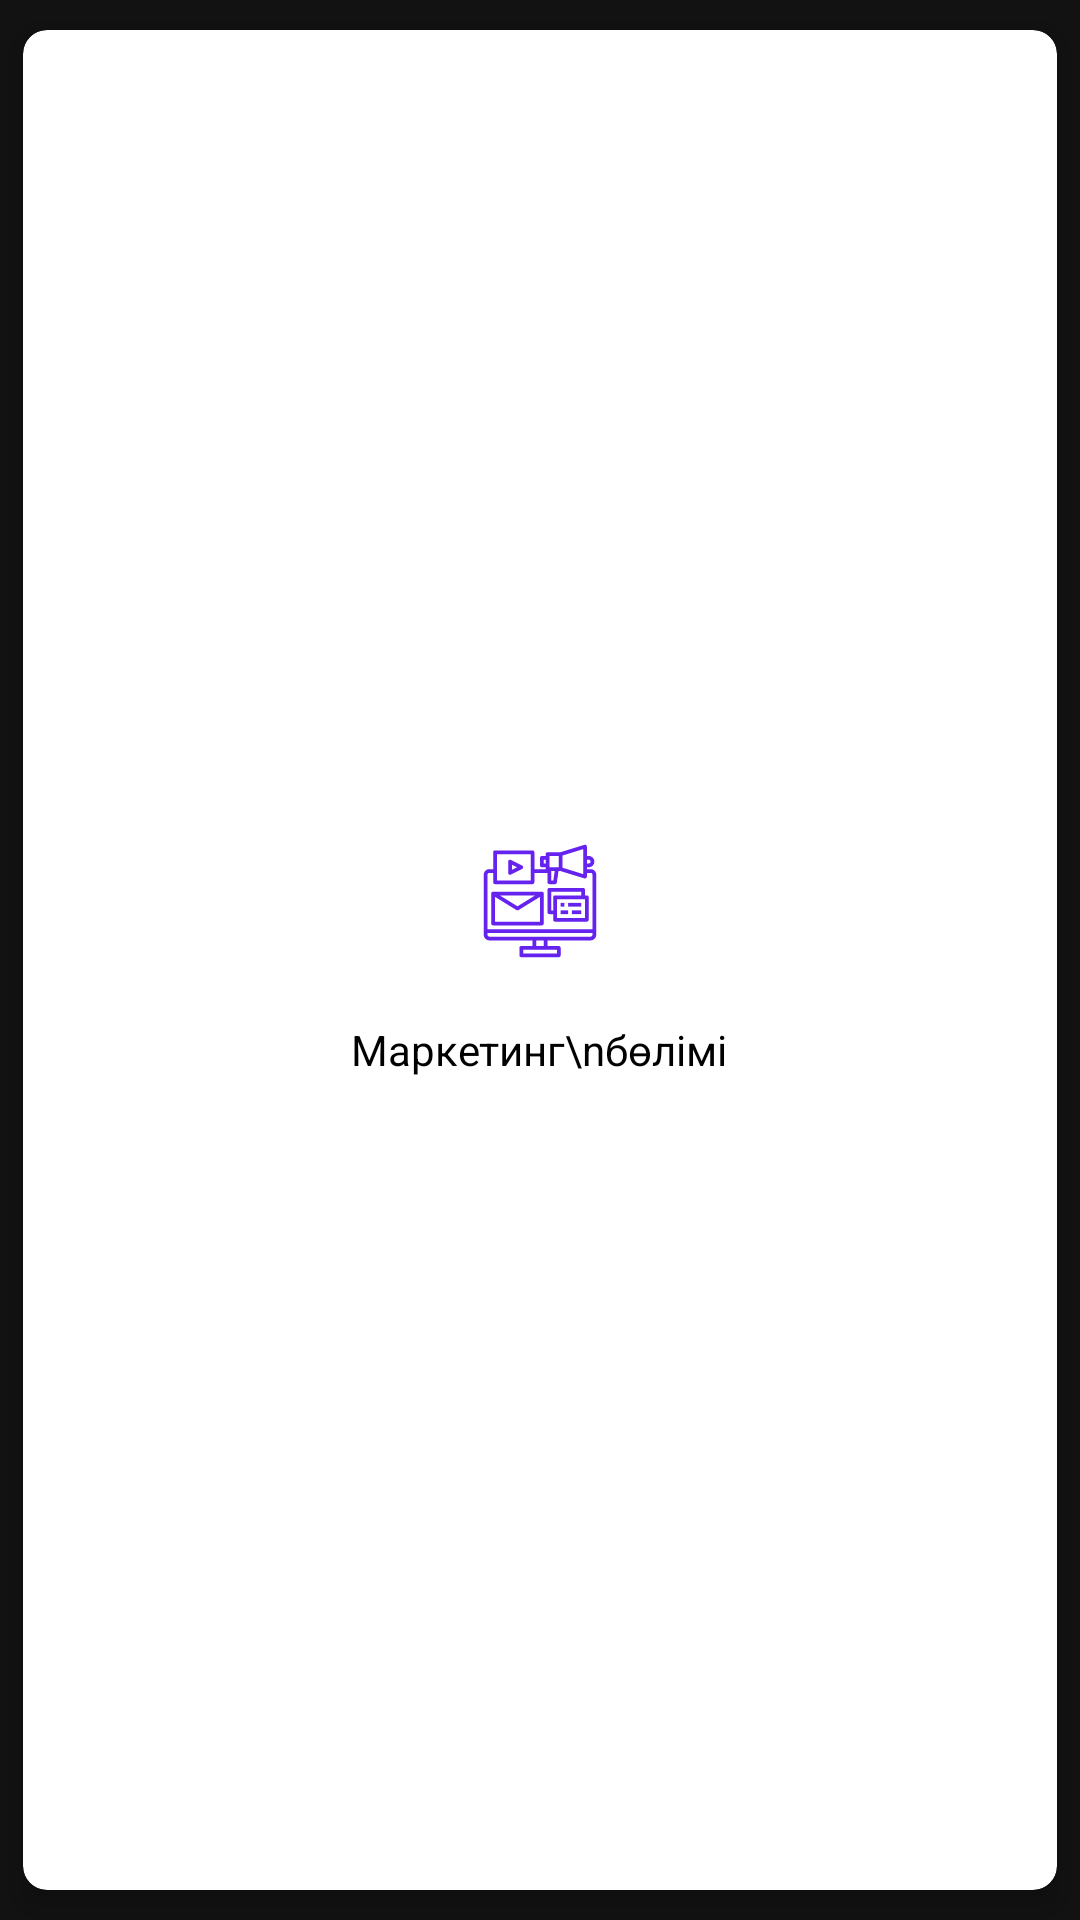

Screen size 1080x1920. Icon name, then its box in pixels as {"x1": x1, "y1": y1, "x2": x2, "y2": y2}:
digitalmarketing: {"x1": 483, "y1": 844, "x2": 597, "y2": 958}
